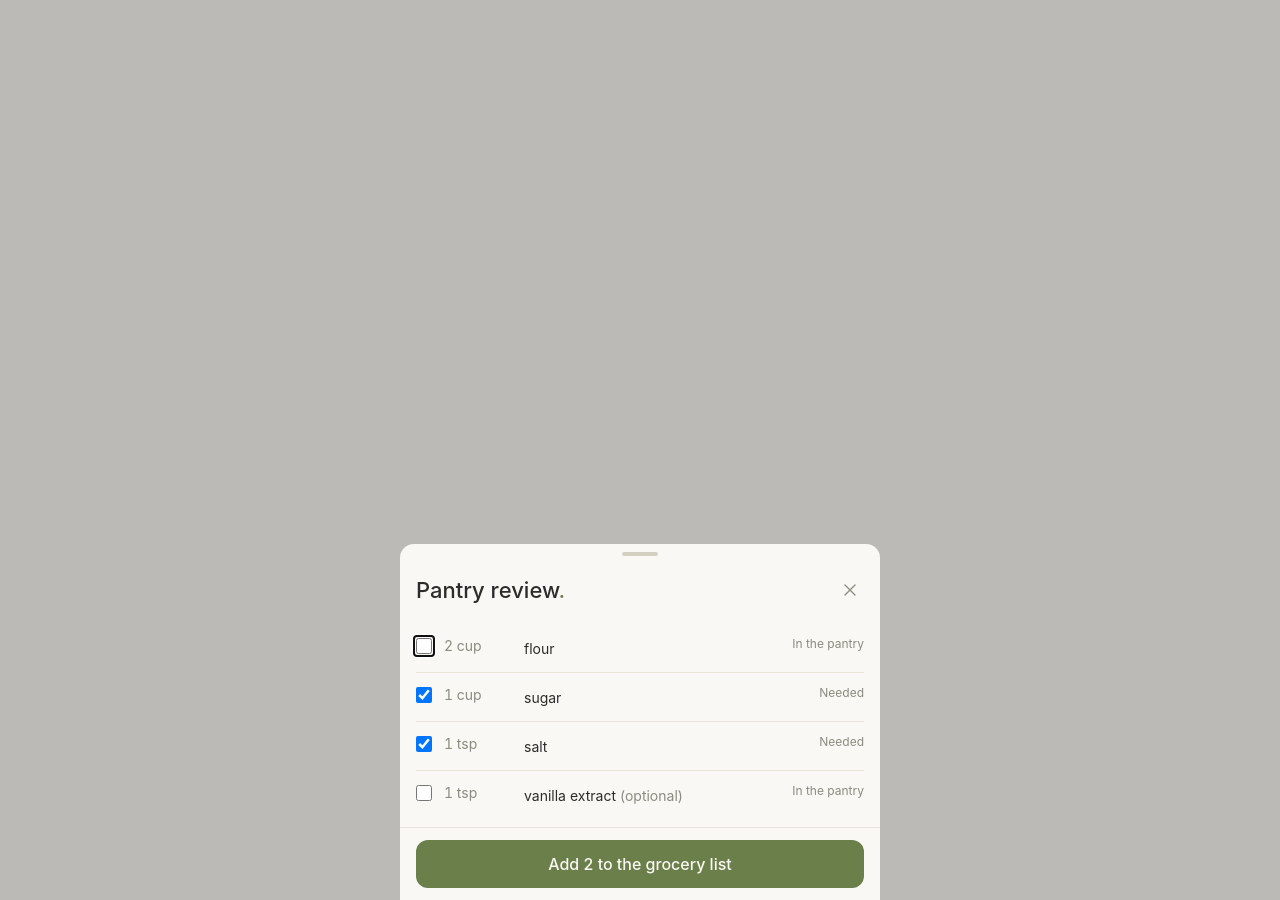
PantryReviewSheet › submitting › keeps sheet open with failed rows marked on partial failure
Click the button "Add 2 to the grocery list".
click(640, 864)  # box [416,840,864,888]
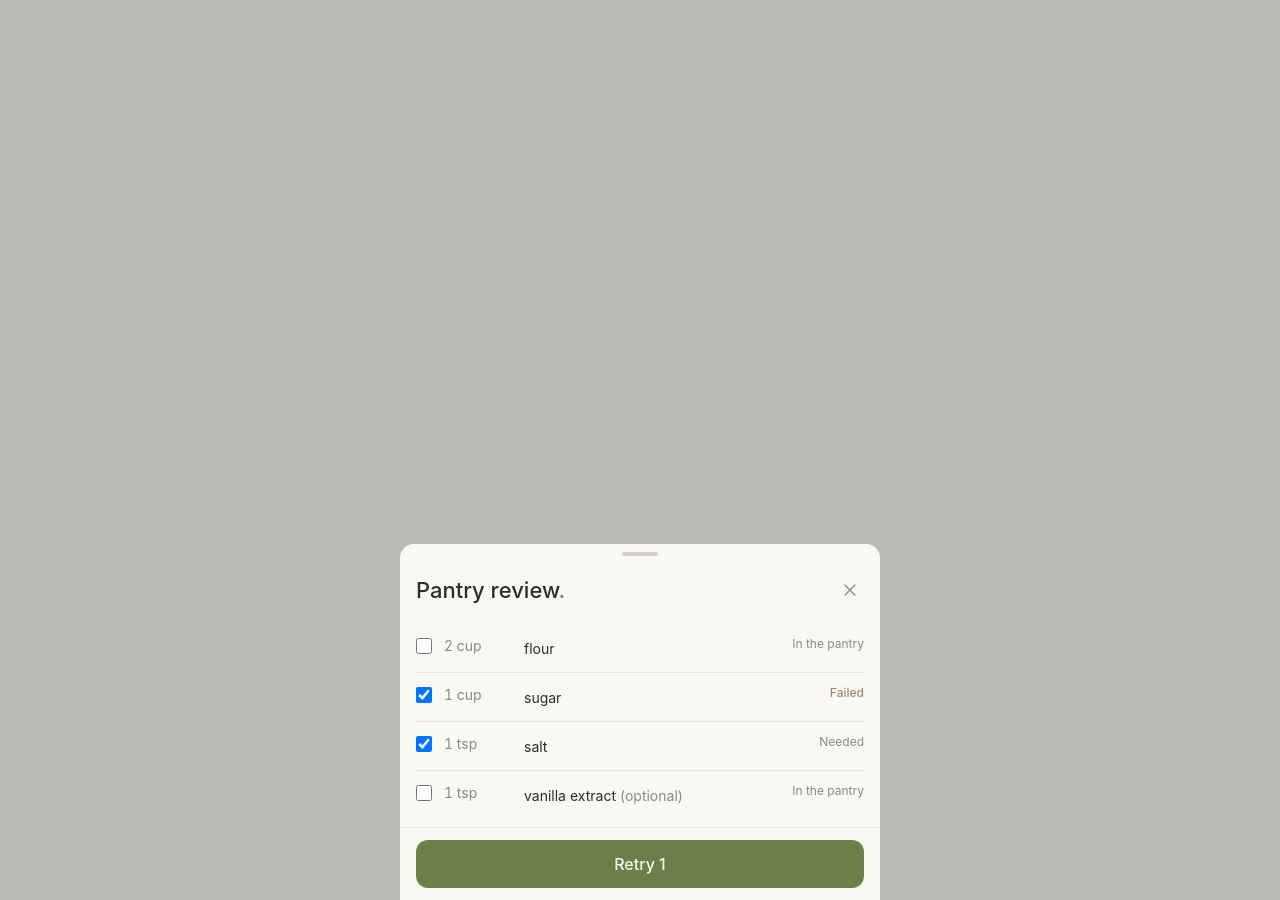
expect the button "Retry 1" is shown: met, box [416,840,864,888]
